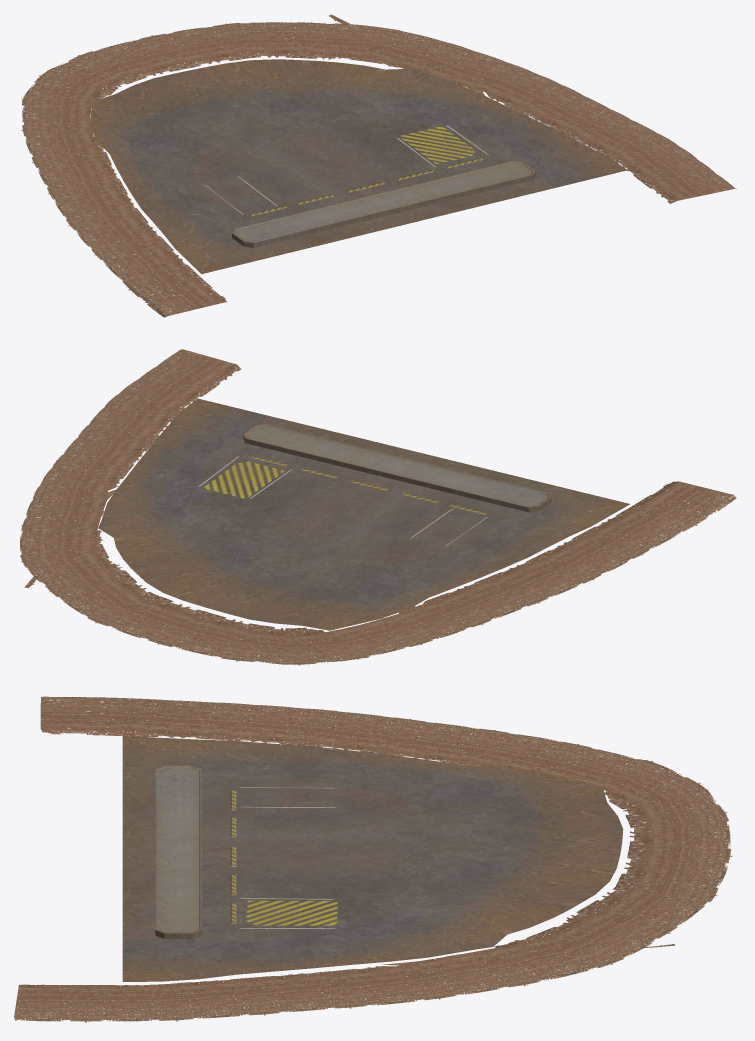
Rendered from mud assets (3).fbx.
3 renders of one model, top to bottom at view 1: azimuth 30°, elevation 25°; view 2: azimuth 150°, elevation 25°; view 3: azimuth 270°, elevation 25°, orthographic. The views are drawn at different scales.
Visible parts, largest first — view 1: ParkingGround, Mud_Track; view 2: ParkingGround, Mud_Track; view 3: ParkingGround, Mud_Track.
Boxes of the visible parts, x1,y1,x2,y2 form: ParkingGround: (90,59,627,274); Mud_Track: (21,14,736,317); ParkingGround: (98,398,629,630); Mud_Track: (20,349,736,665); ParkingGround: (122,736,623,981); Mud_Track: (14,696,732,1022).
Bounding box in the file's own units: 15863 × 231 × 14751.
